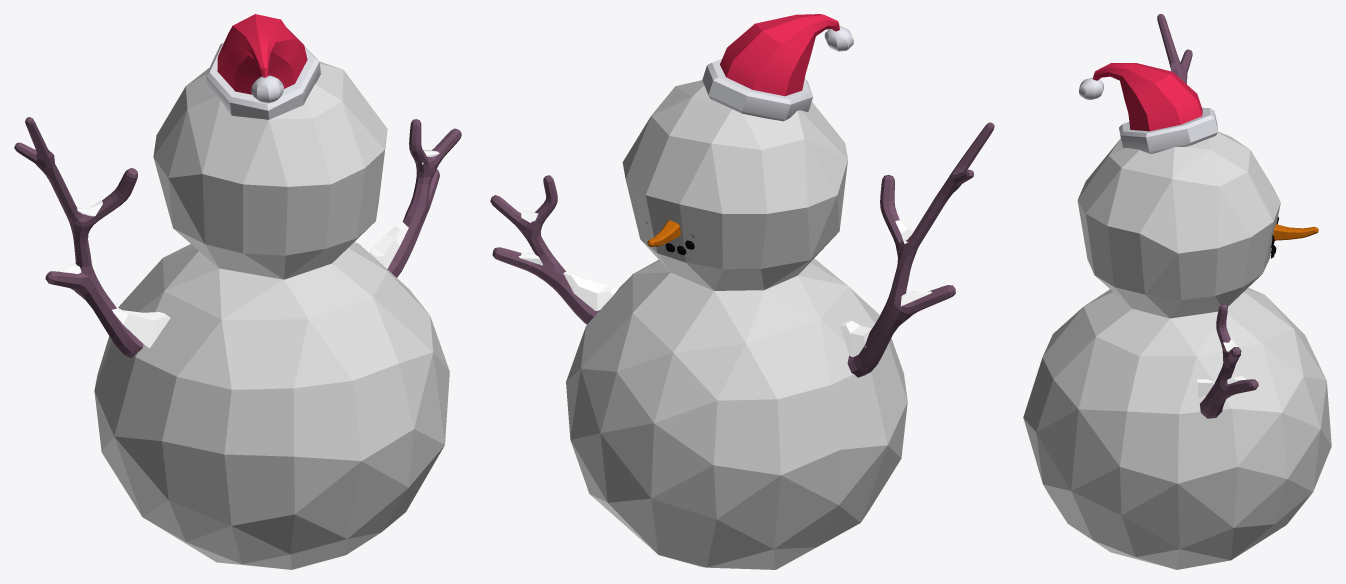
Rendered from Snowman.glb.
The picture shows the model from 3 angles, left to right: view 1: azimuth 30°, elevation 25°; view 2: azimuth 150°, elevation 25°; view 3: azimuth 270°, elevation 25°; orthographic projection. The views are drawn at different scales.
Visible parts, largest first — view 1: Snowman.001, Branch.001, Santa_hat, Snow_part.001; view 2: Snowman.001, Branch.001, Santa_hat, Snow_part.001; view 3: Snowman.001, Santa_hat, Branch.001, Snowman.003, Snow_part.001.
Boxes of the visible parts, box(x1,y1,x2,y2) form: Snowman.001: box(94, 61, 449, 569); Branch.001: box(14, 117, 461, 358); Santa_hat: box(206, 14, 320, 119); Snow_part.001: box(58, 149, 439, 348); Snowman.001: box(566, 80, 907, 569); Branch.001: box(490, 122, 994, 377); Santa_hat: box(702, 14, 853, 121); Snow_part.001: box(519, 210, 931, 356); Snowman.001: box(1023, 131, 1331, 569); Santa_hat: box(1079, 63, 1217, 153); Branch.001: box(1157, 14, 1258, 418); Snowman.003: box(1273, 224, 1318, 240); Snow_part.001: box(1197, 339, 1246, 399).
Bounding box in the file's own units: 1.17 × 1.29 × 0.7631.
